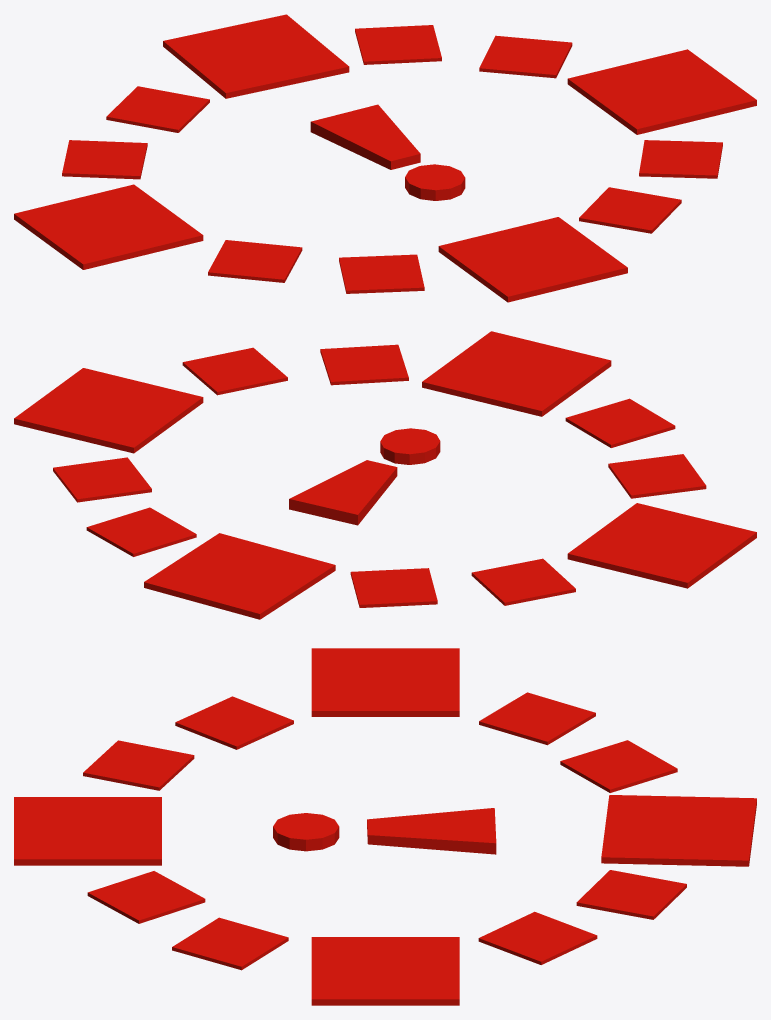
Rendered from Blocking_Trampa_Espinas_Fase_01.fbx.
The picture shows the model from 3 angles, top to bottom: view 1: azimuth 30°, elevation 25°; view 2: azimuth 150°, elevation 25°; view 3: azimuth 270°, elevation 25°; orthographic projection. The views are drawn at different scales.
Parts seen in each view (by area): view 1: m_Senal_Trampa; view 2: m_Senal_Trampa; view 3: m_Senal_Trampa.
Boxes of the visible parts, x1=… form: m_Senal_Trampa: x1=14, y1=14, x2=756, y2=302; m_Senal_Trampa: x1=14, y1=331, x2=756, y2=619; m_Senal_Trampa: x1=14, y1=648, x2=756, y2=1005.
Bounding box in the file's own units: 589 × 9.06 × 527.
